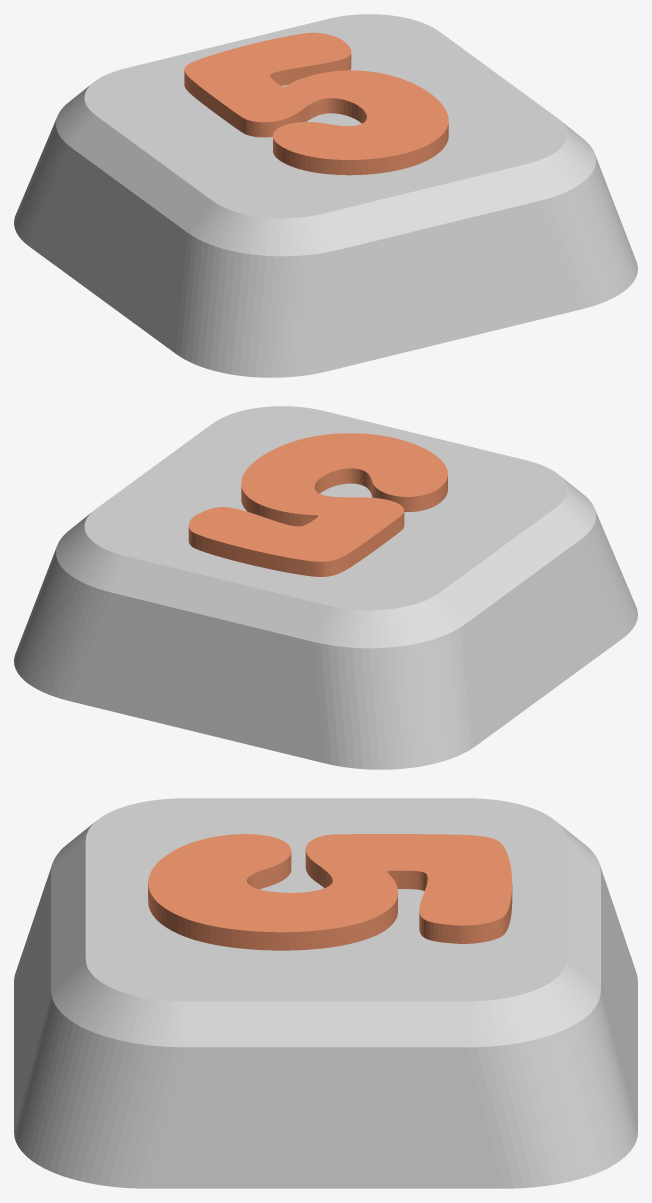
Rendered from cap-5.glb.
The picture shows the model from 3 angles, top to bottom: view 1: azimuth 30°, elevation 25°; view 2: azimuth 150°, elevation 25°; view 3: azimuth 270°, elevation 25°; orthographic projection. The views are drawn at different scales.
Parts seen in each view (by area): view 1: cap_0, glyph_1; view 2: cap_0, glyph_1; view 3: cap_0, glyph_1.
Boxes of the visible parts, x1,y1,x2,y2 form: cap_0: [14, 14, 637, 377]; glyph_1: [184, 32, 448, 175]; cap_0: [14, 406, 637, 769]; glyph_1: [188, 433, 447, 576]; cap_0: [14, 798, 637, 1188]; glyph_1: [148, 834, 512, 950].
Size of the model in its own units: 18 by 5.59 by 18.
